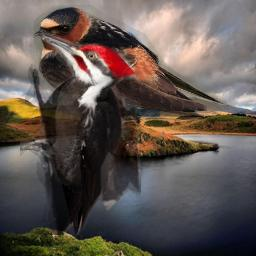Swallow: (33, 5, 227, 120)
Woodpecker: (20, 33, 141, 235)
